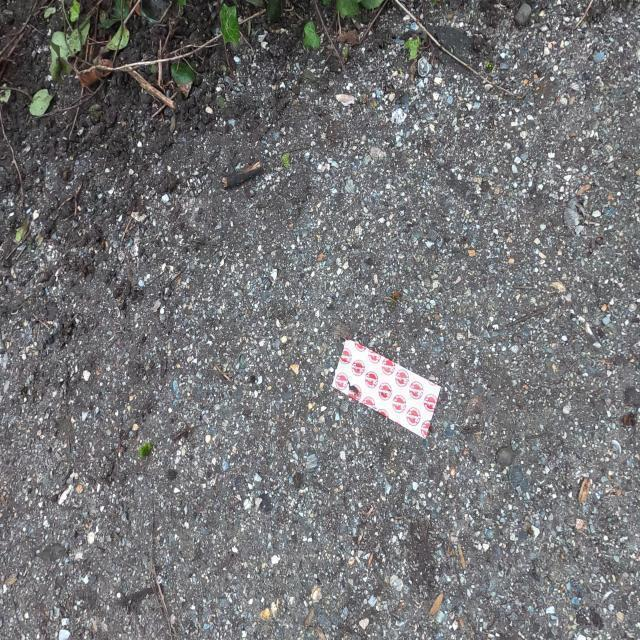Paper: (332, 338, 444, 440)
